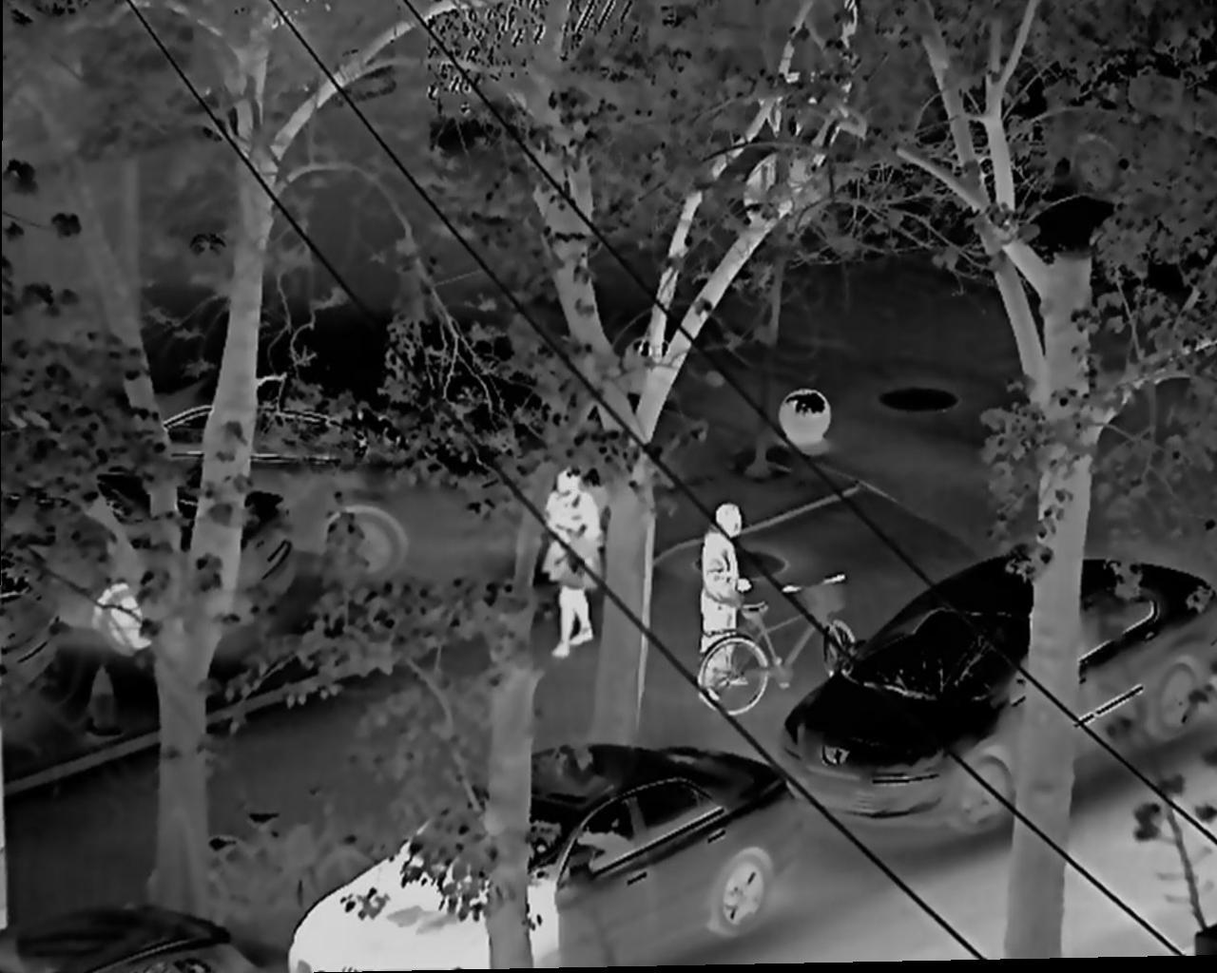person: (542, 469, 604, 658), (701, 503, 753, 706)
